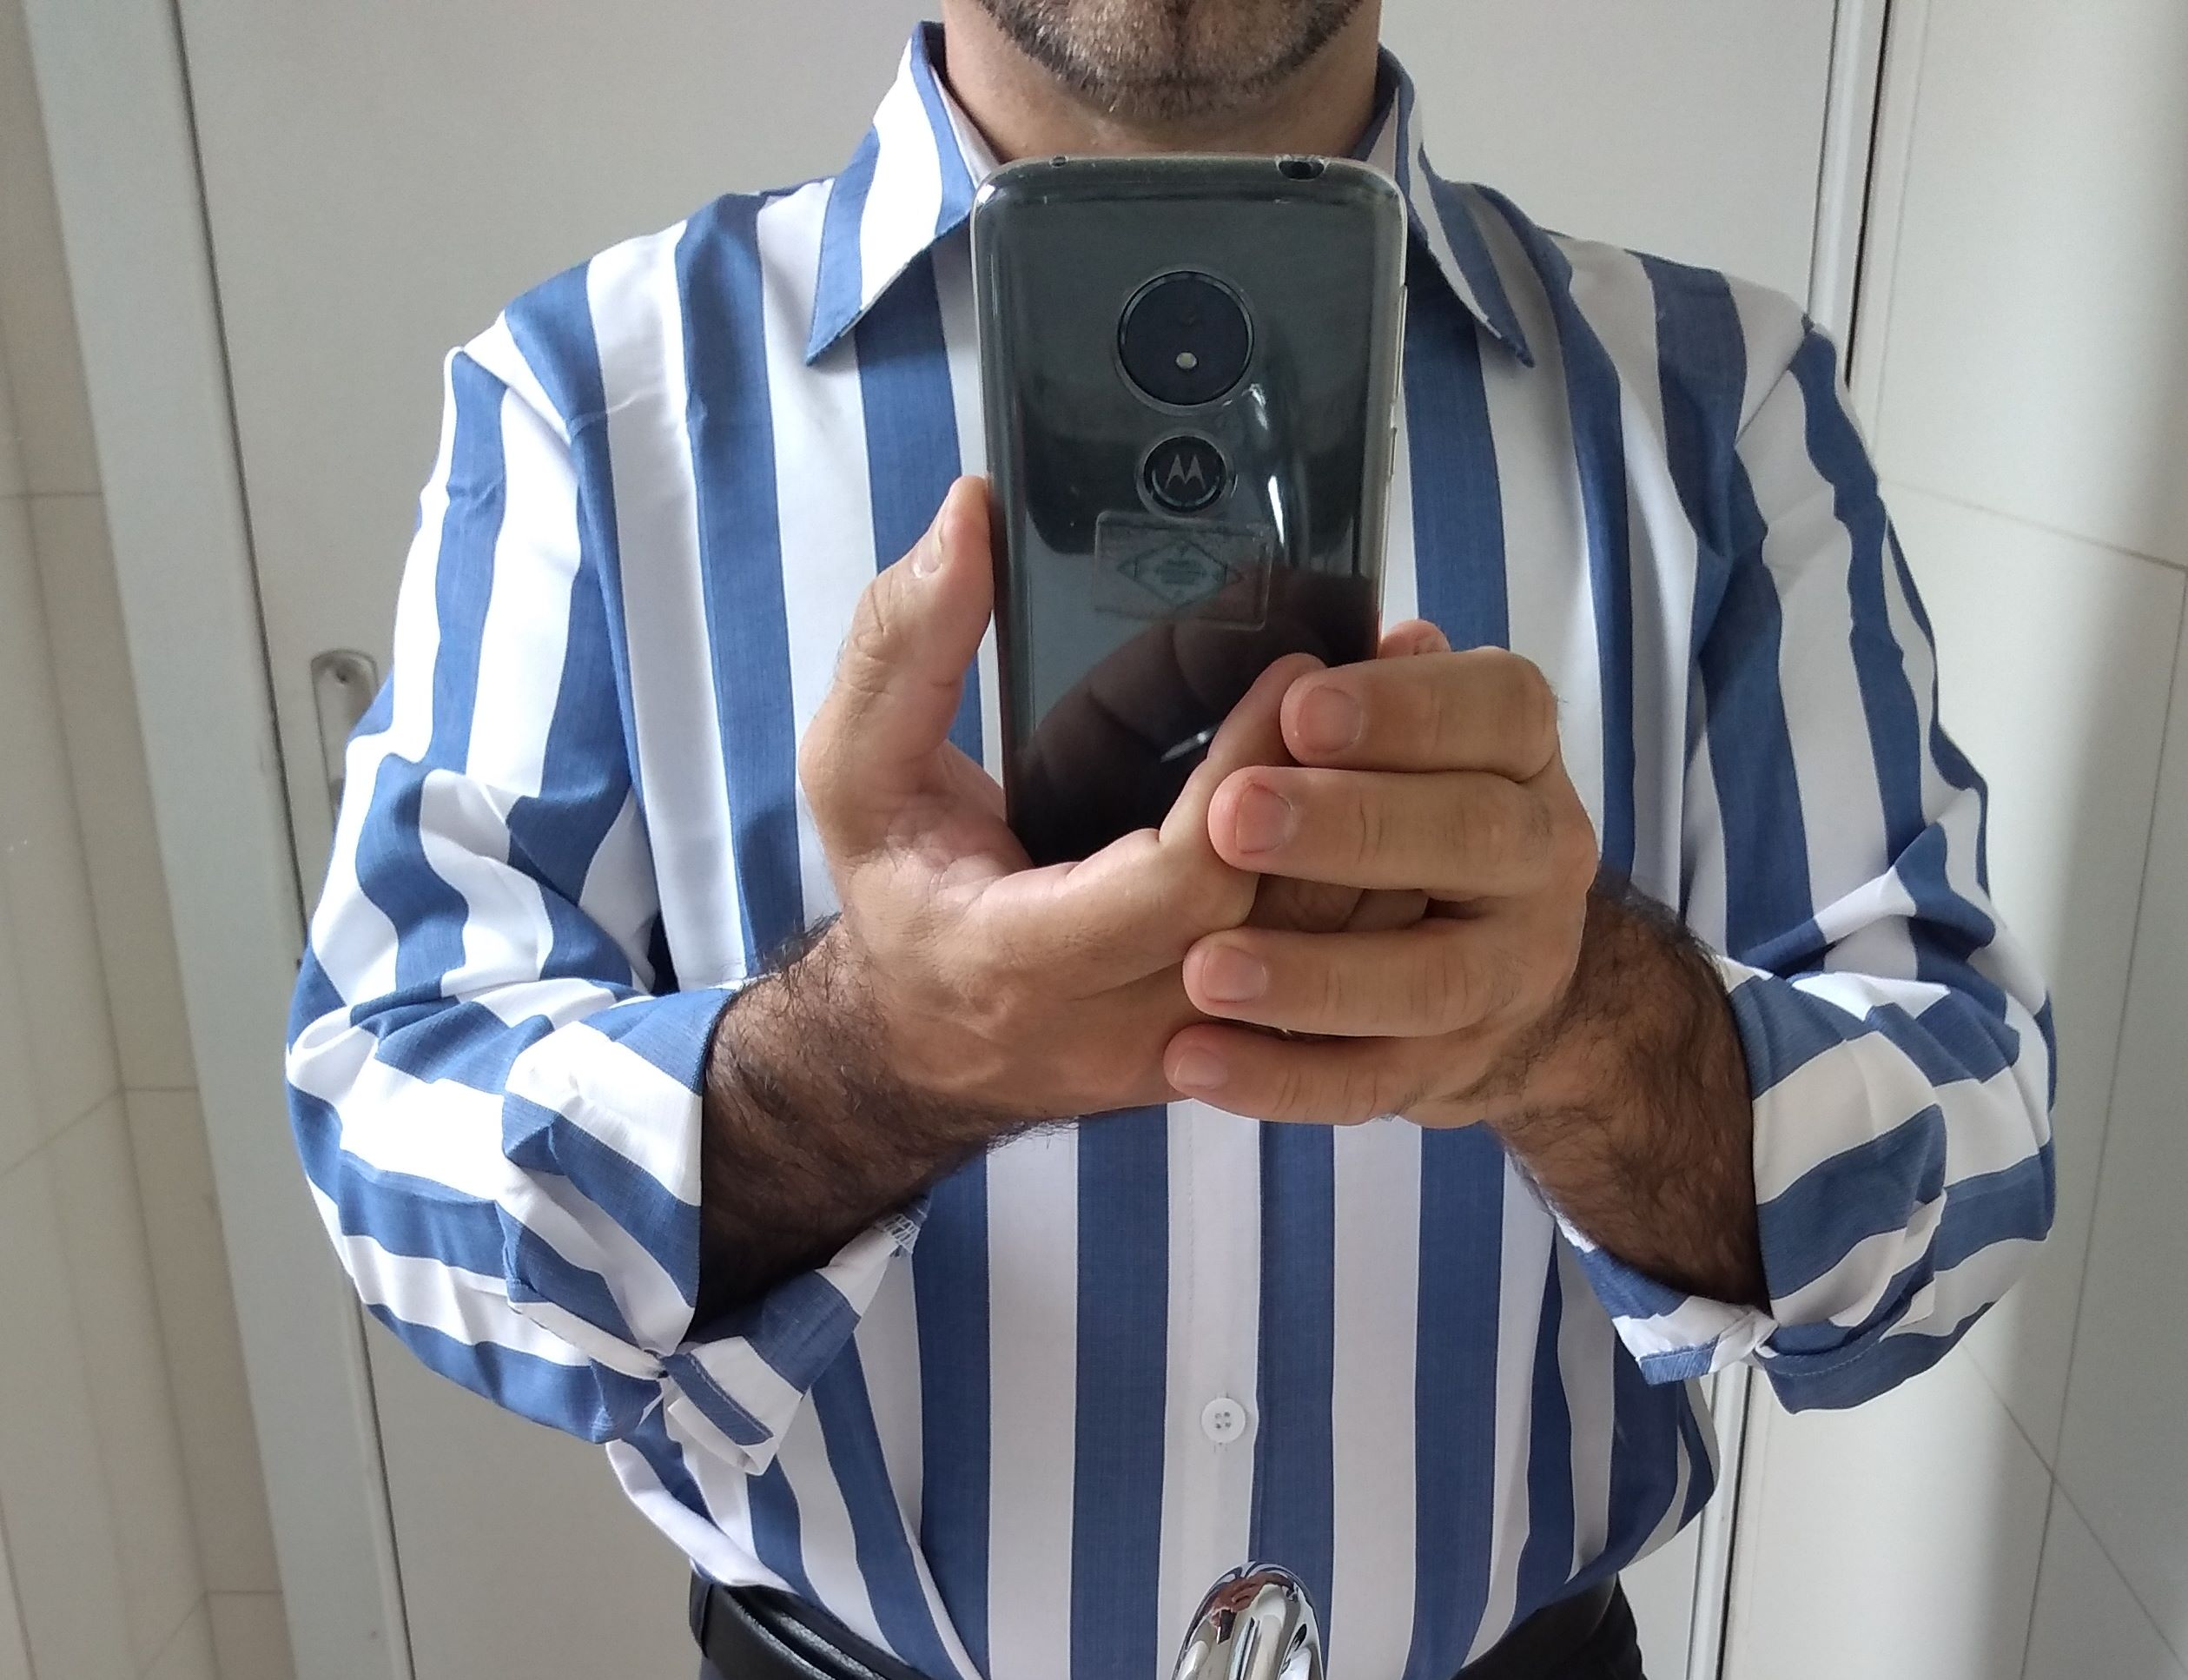shirts: (337, 86, 2087, 1680)
